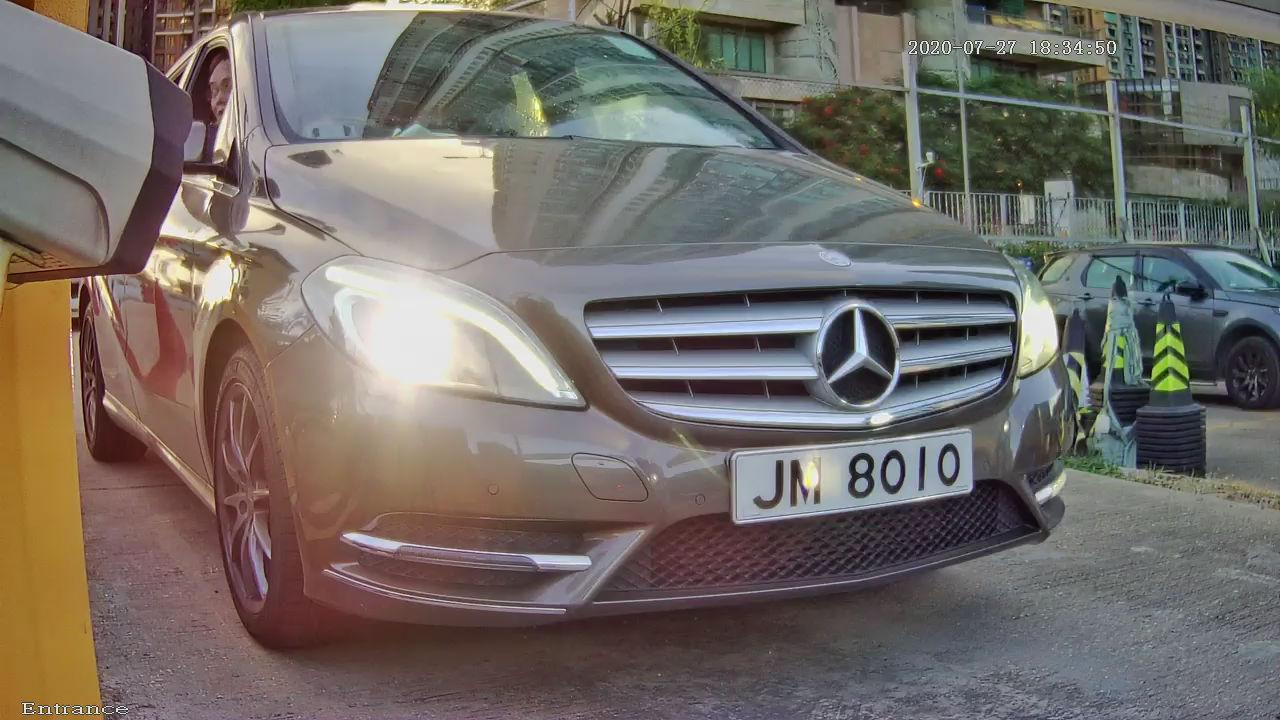privatecar: (149, 23, 1098, 634)
